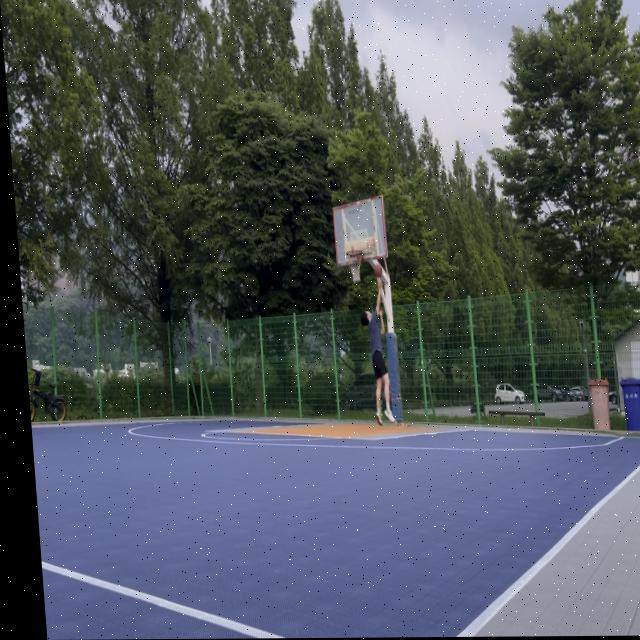basketball: (373, 263, 383, 278)
hoop: (346, 250, 365, 284)
